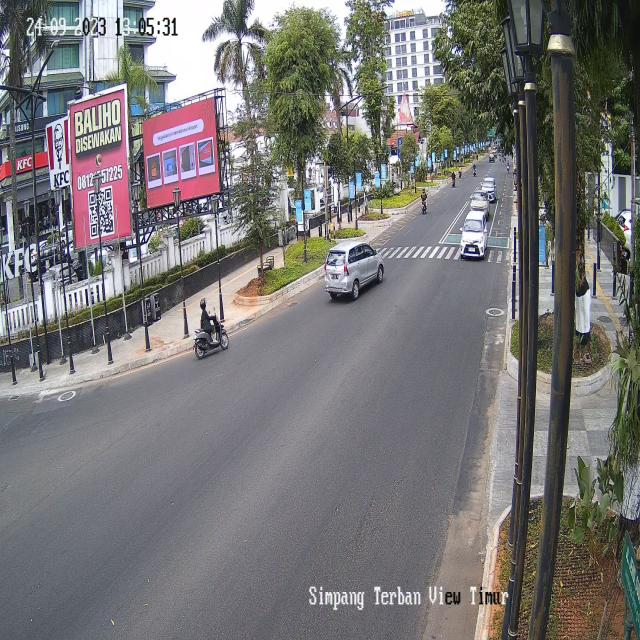car: (321, 242, 384, 300), (461, 211, 487, 263), (470, 191, 490, 219), (482, 175, 498, 204)
motorcycle: (192, 298, 230, 355), (421, 185, 427, 215), (451, 170, 456, 188), (472, 161, 476, 180), (458, 162, 462, 179)
